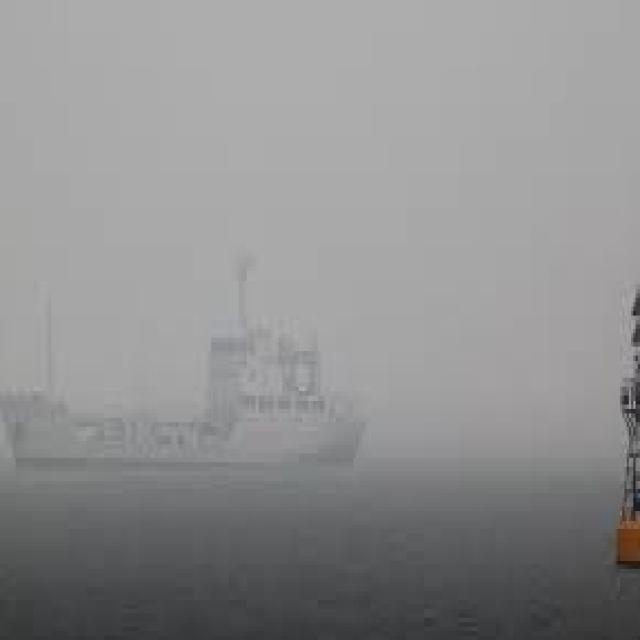buoy: (609, 276, 640, 560)
cargoship: (6, 245, 372, 477)
